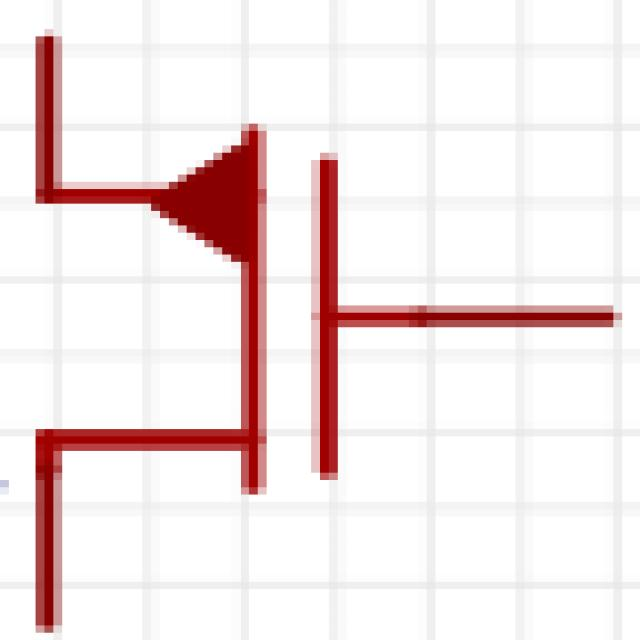nmos: (15, 26, 622, 610)
